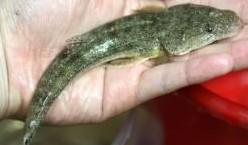fish: (20, 3, 244, 144)
